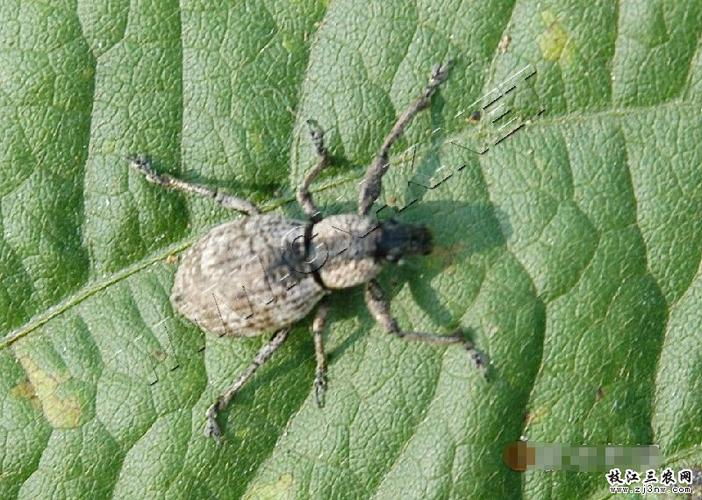Curculionidae: (123, 61, 490, 454)
